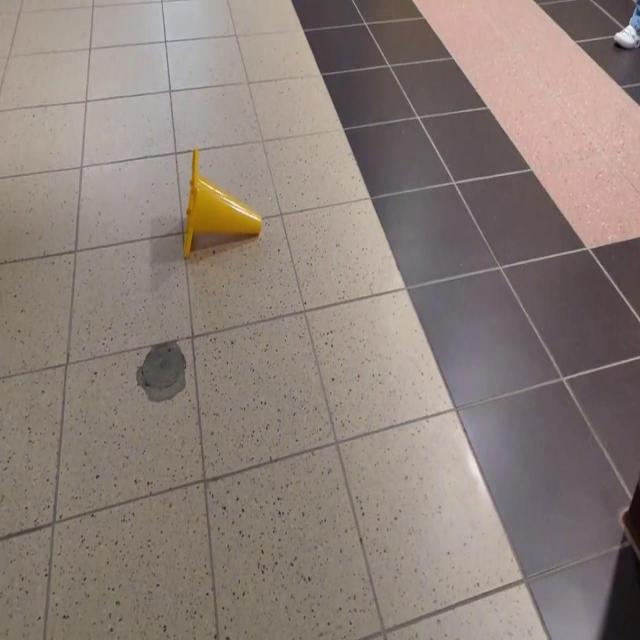frc_cone: (182, 148, 262, 266)
